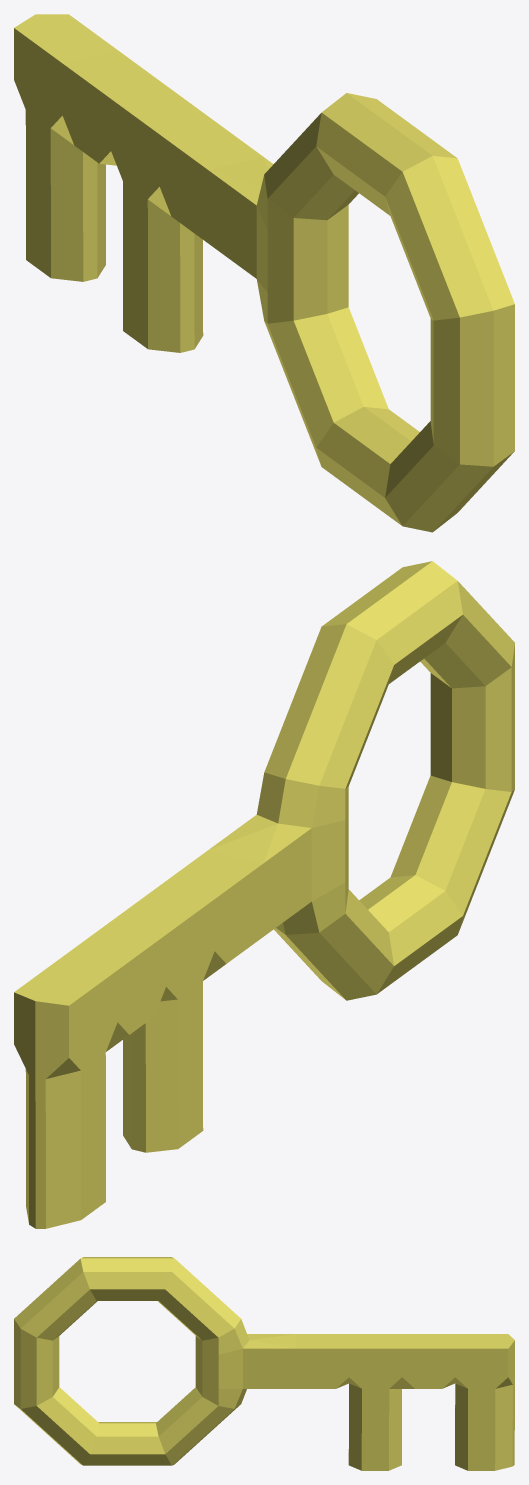
The model's file is key.fbx.
The picture shows the model from 3 angles, top to bottom: view 1: azimuth 30°, elevation 25°; view 2: azimuth 150°, elevation 25°; view 3: azimuth 270°, elevation 25°; orthographic projection. The views are drawn at different scales.
Visible parts, largest first — view 1: Torus; view 2: Torus; view 3: Torus.
Part boxes in pixels (x1,y1,x2,y2): Torus: [14, 14, 514, 532]; Torus: [14, 561, 514, 1228]; Torus: [14, 1257, 514, 1470].
Size of the model in its own units: 207 by 959 by 2110.
